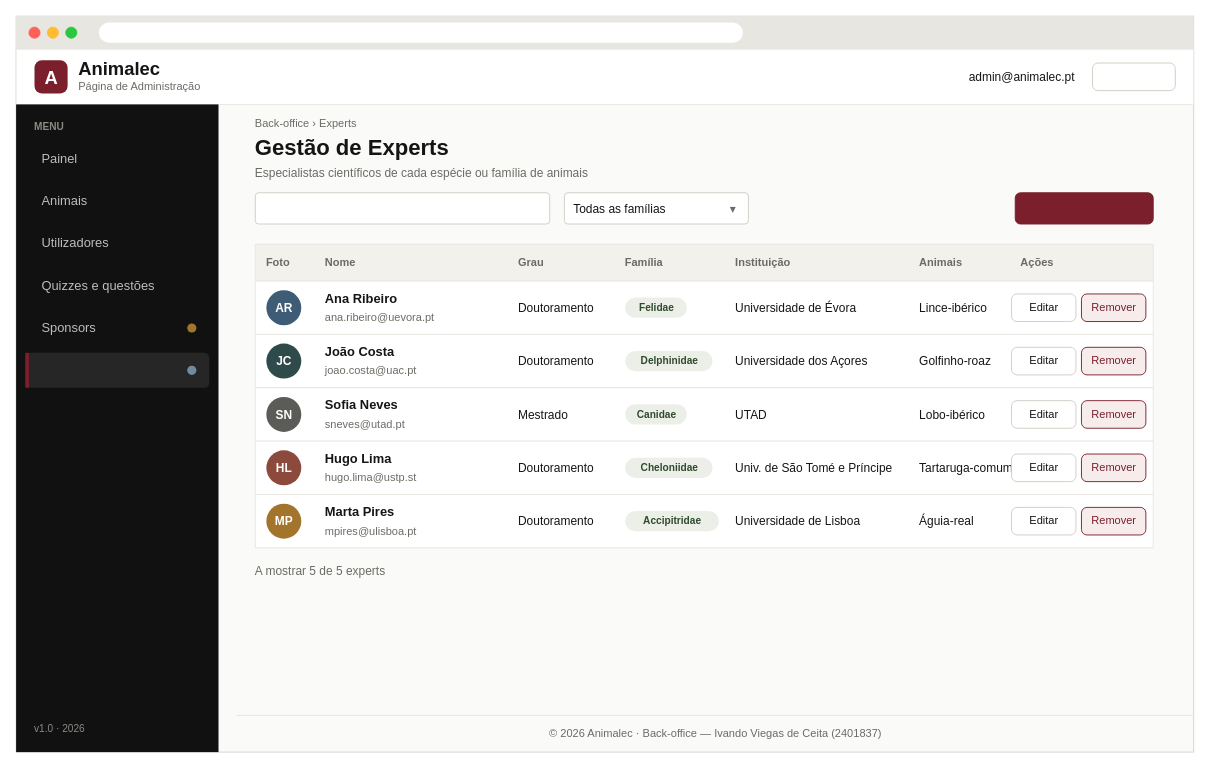
The diagram is 1211 pixels wide and 768 high, and some of its shapes have lost their labels. The box of each missing label's shape, as (x1, y1, x2, y2) in pixels:
+ Novo expert: (1014, 192, 1153, 224)
animalec.pt/admin/#/experts: (98, 22, 742, 42)
Experts: (25, 352, 209, 387)
Pesquisar por nome ou instituição…: (254, 192, 550, 224)
Sair: (1092, 62, 1175, 91)
